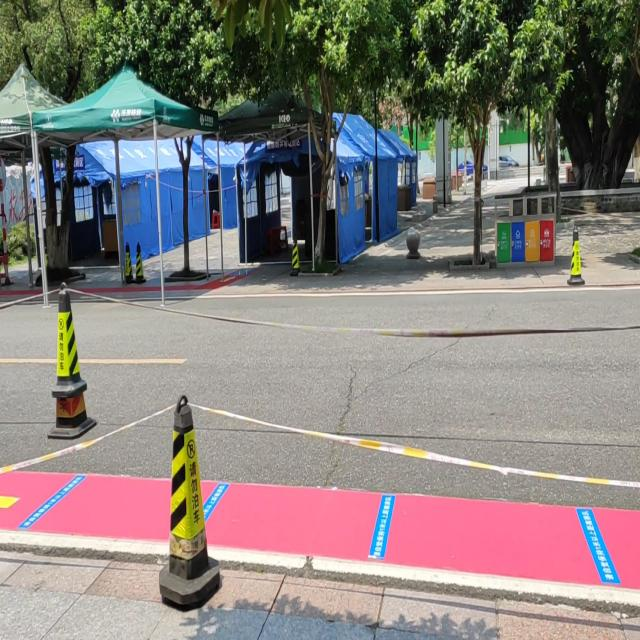ash bin: (494, 191, 556, 269)
car: (458, 159, 487, 174), (498, 153, 519, 168)
reflective_cone: (158, 393, 222, 608), (50, 280, 86, 396), (47, 393, 97, 438), (566, 224, 586, 286), (288, 234, 300, 277), (134, 241, 146, 283), (123, 241, 135, 283)
spherical_roadblock: (405, 226, 421, 258)
